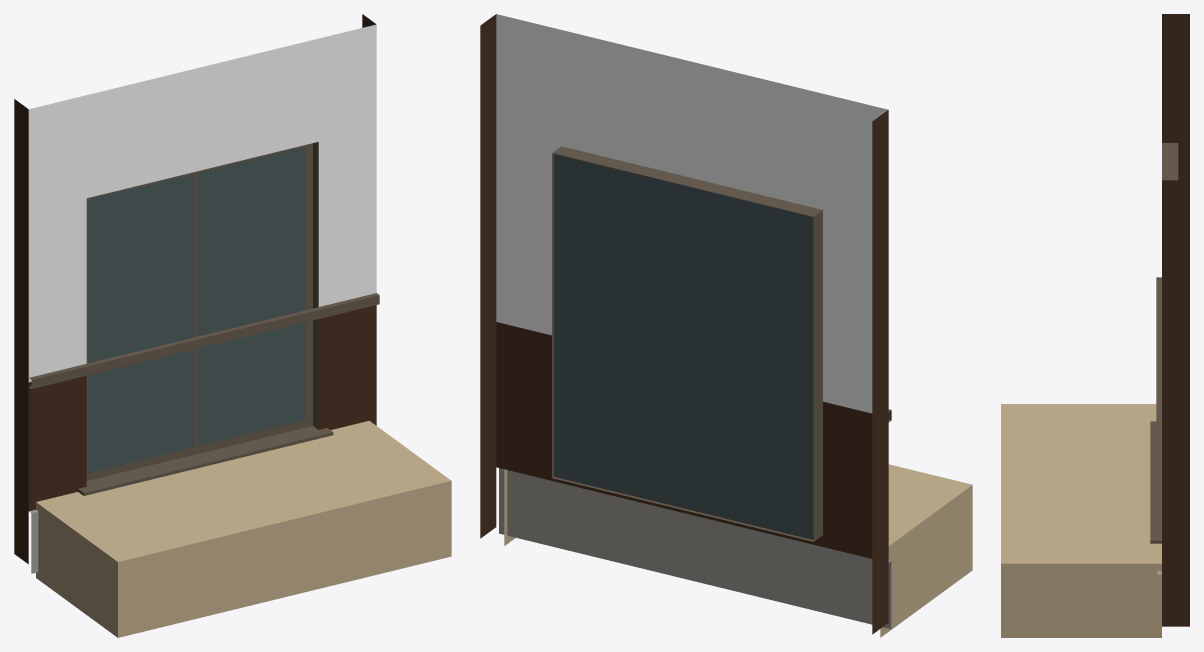
File: base-stair3.fbx
3 renders of one model, left to right at view 1: azimuth 30°, elevation 25°; view 2: azimuth 150°, elevation 25°; view 3: azimuth 270°, elevation 25°, orthographic. The views are drawn at different scales.
Visible parts, largest first — view 1: a2015/800/base-stair; view 2: a2015/800/base-stair; view 3: a2015/800/base-stair.
Boxes of the visible parts, left/top/right/bottom form: a2015/800/base-stair: left=14, top=14, right=451, bottom=637; a2015/800/base-stair: left=480, top=14, right=972, bottom=637; a2015/800/base-stair: left=1001, top=14, right=1189, bottom=637.
Bounding box in the file's own units: 2.4 × 3.1 × 1.15.
